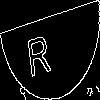R: (25, 25, 52, 78)
